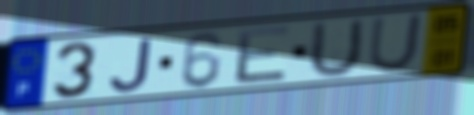3: (49, 39, 103, 101)
6: (179, 29, 225, 92)
E: (233, 24, 294, 87)
J: (107, 36, 155, 94)
U: (304, 16, 366, 81), (365, 12, 425, 75)
